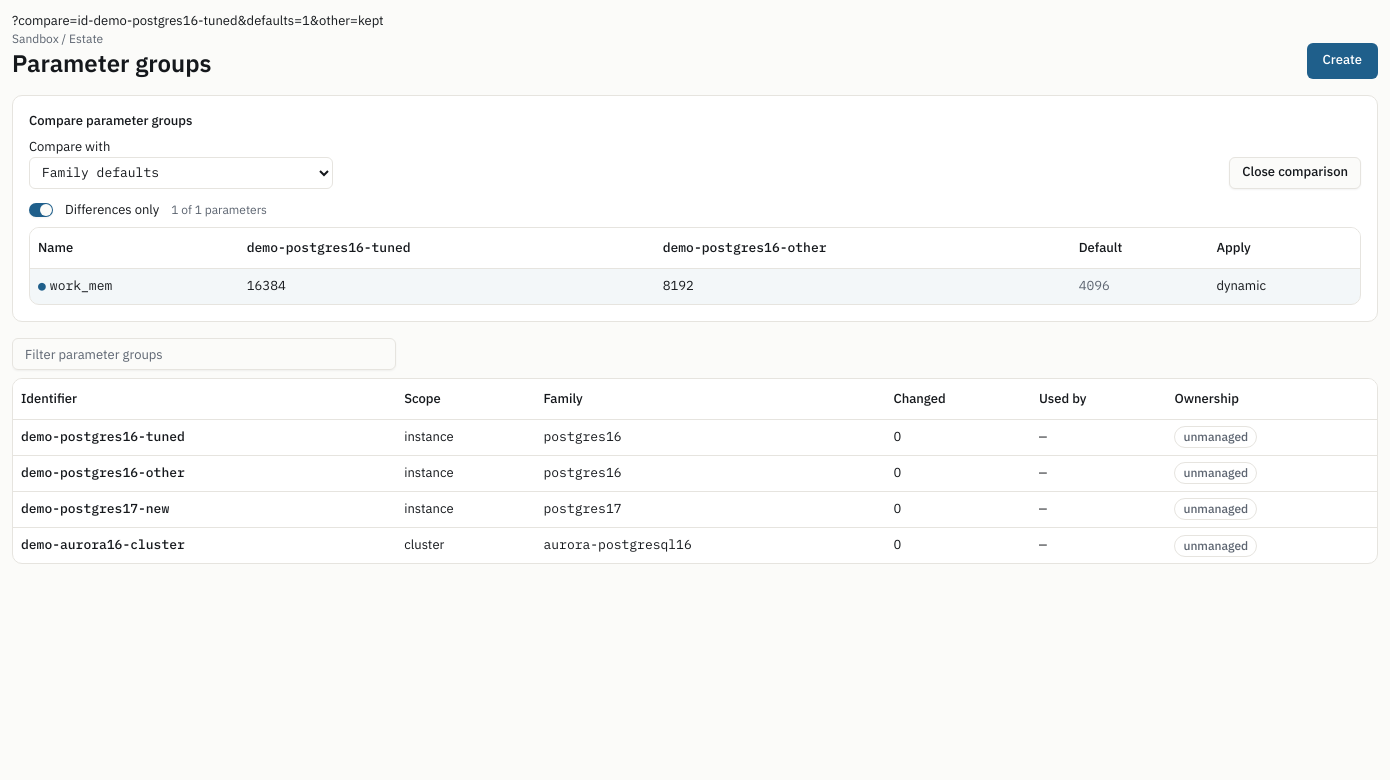
Test: ParameterGroupsPage comparison › closes the comparison and keeps the rest of the address
Click the button "Close comparison".
click(1295, 173)  # box [1229, 157, 1361, 189]
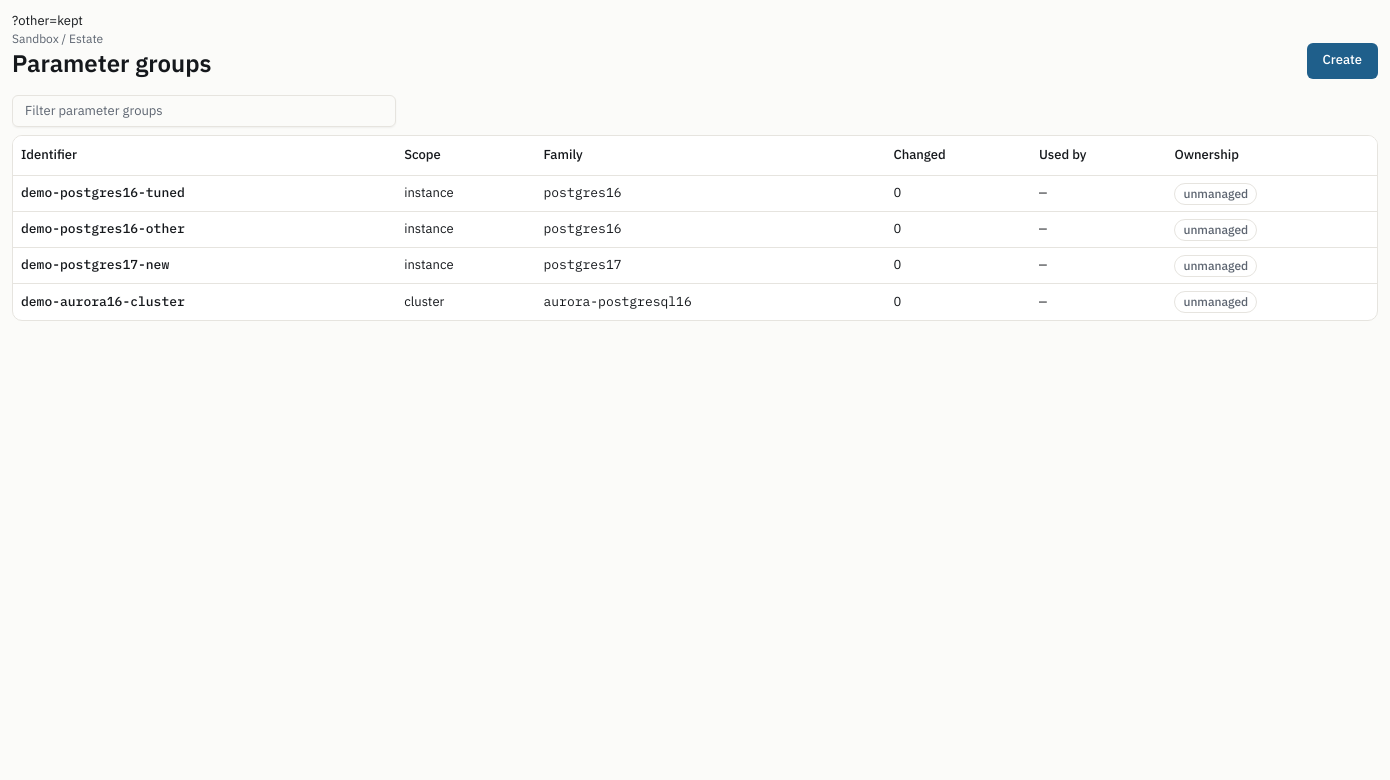
Check: the heading "Compare parameter groups" is gone
Check: the text named "Address" reads "?other=kept", box [12, 12, 83, 29]
